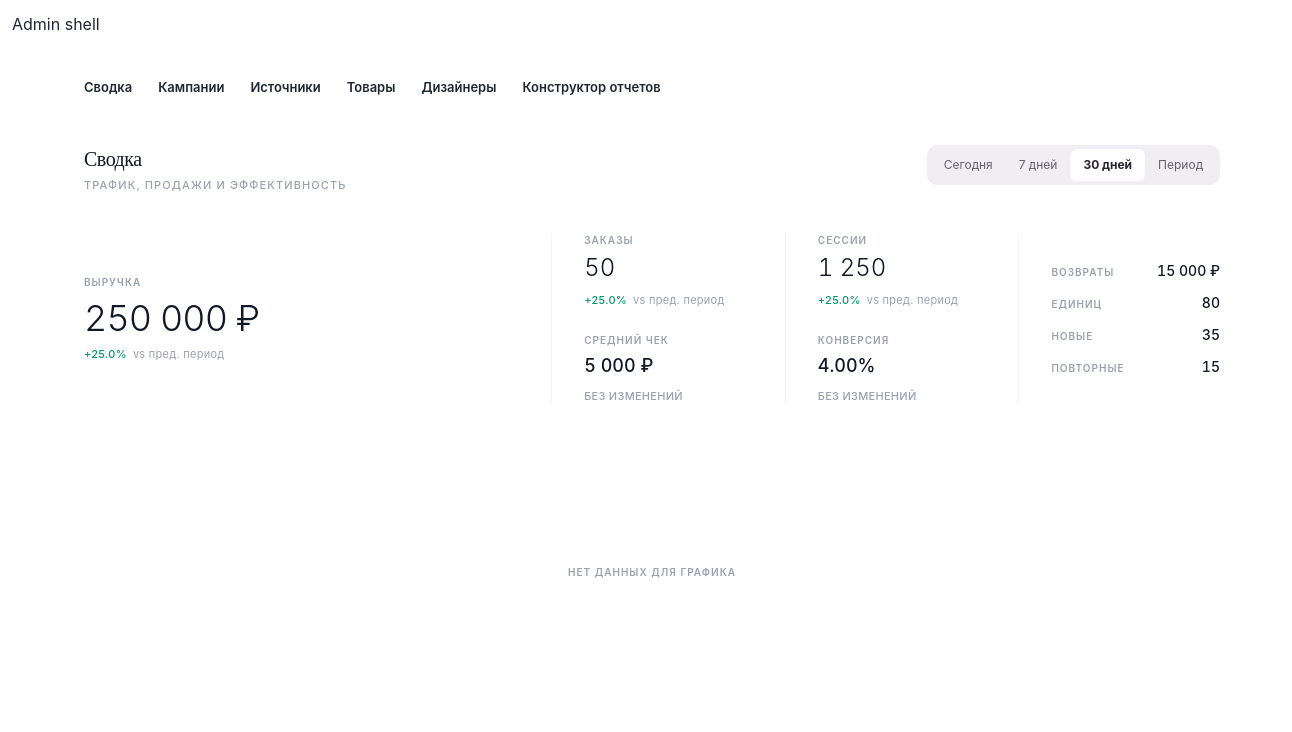
Test: Marketing overview range regression and hierarchy › E: stale request resolve cannot replace newer values, errors or loading
The image size is (1292, 732).
Click the button "7 дней": (1038, 164) [1006,148,1070,180]
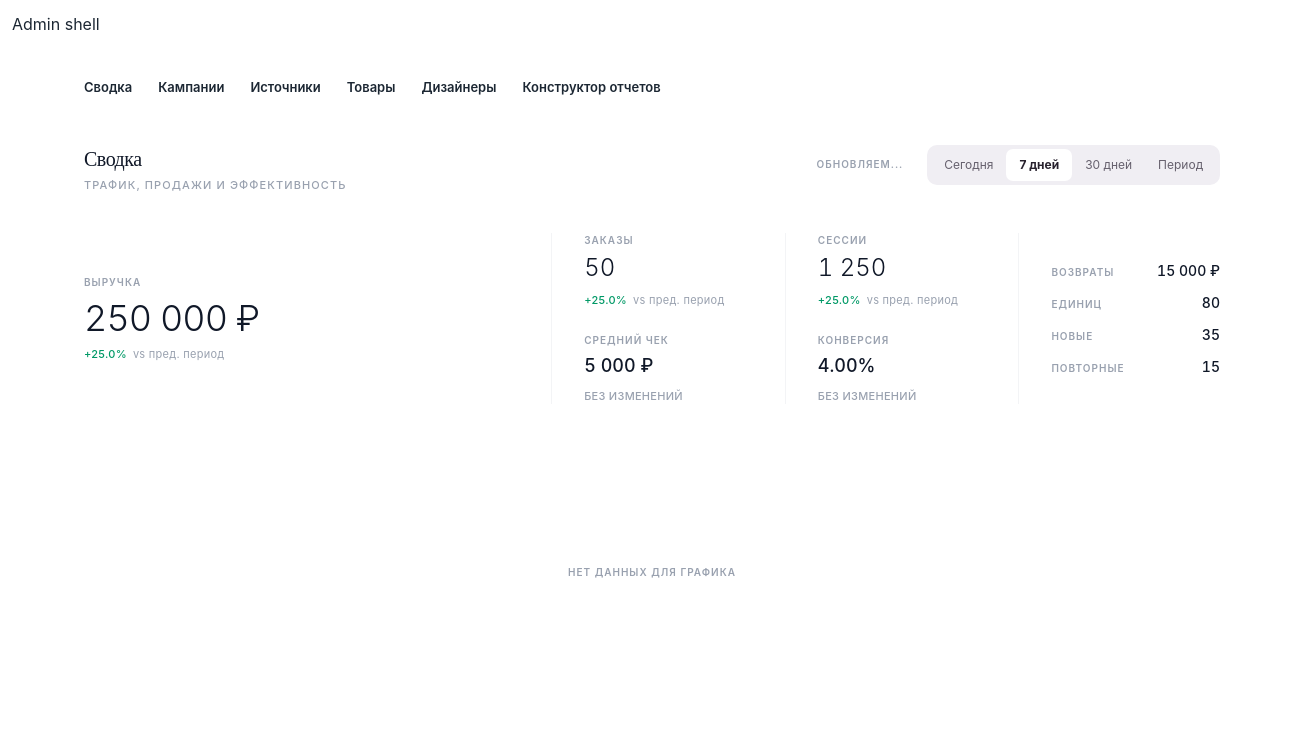
Click the button "Сегодня": (969, 164) [931,148,1006,180]
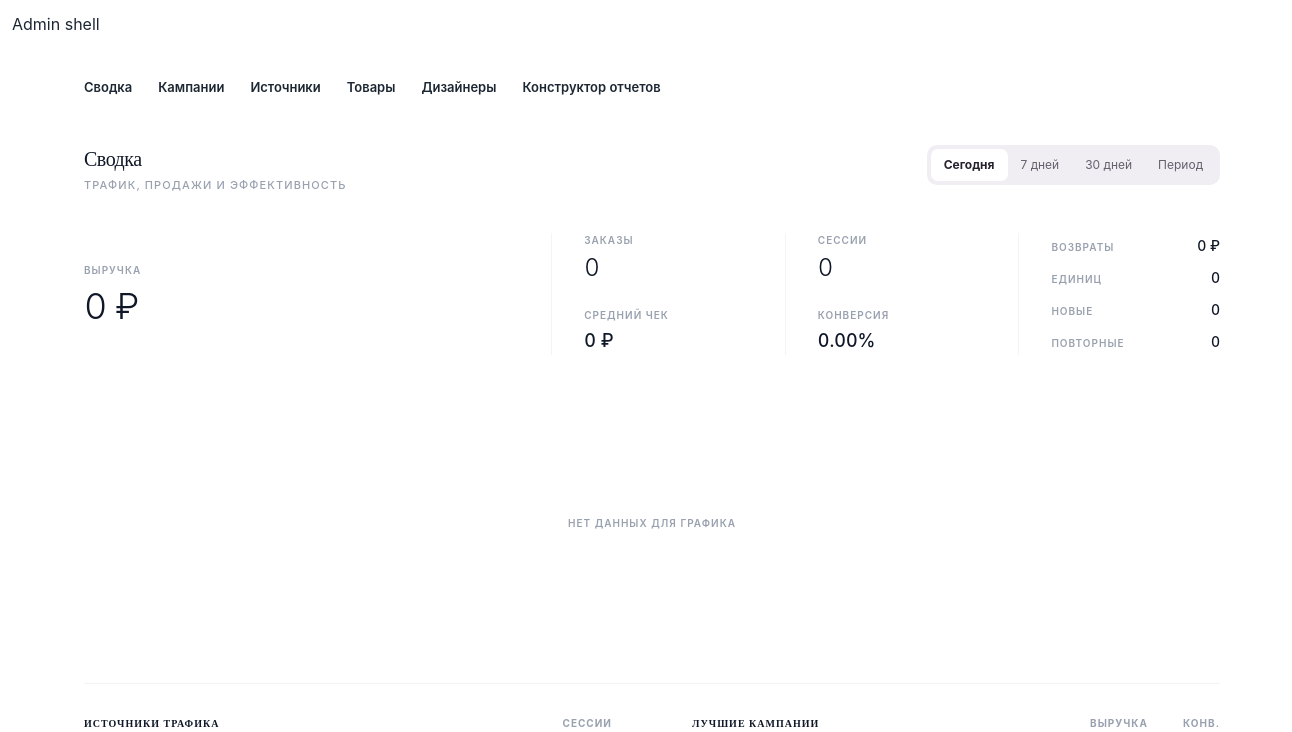
Now the text with test id "overview-loading" is gone
